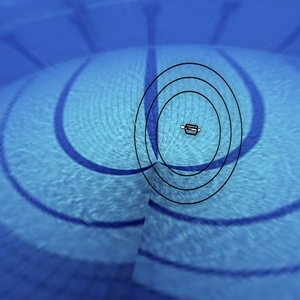circle: (124, 50, 256, 210)
submarine: (175, 112, 206, 153)
